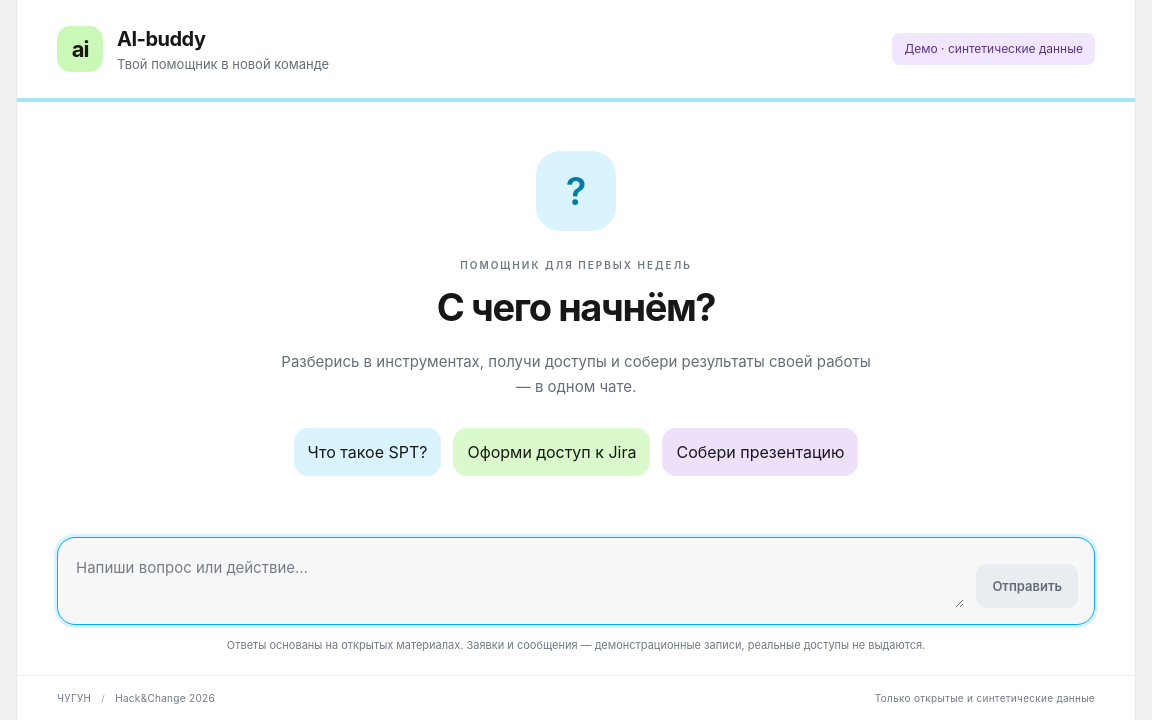
Scenario: Server-owned chat › leaves an ordinary response without a PDF download card
The width and height of the screenshot is (1152, 720).
In the text box: (519, 580) [74,554,964,608], type "Привет"
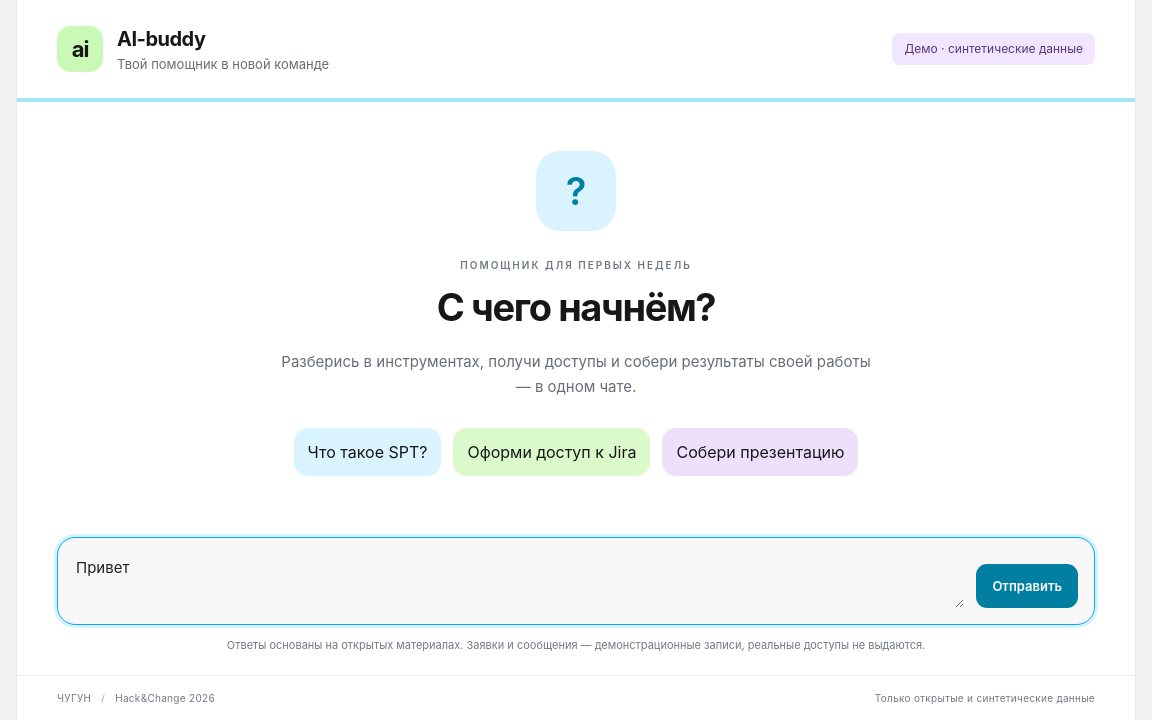
Submit the form, box [57,536,1095,624]
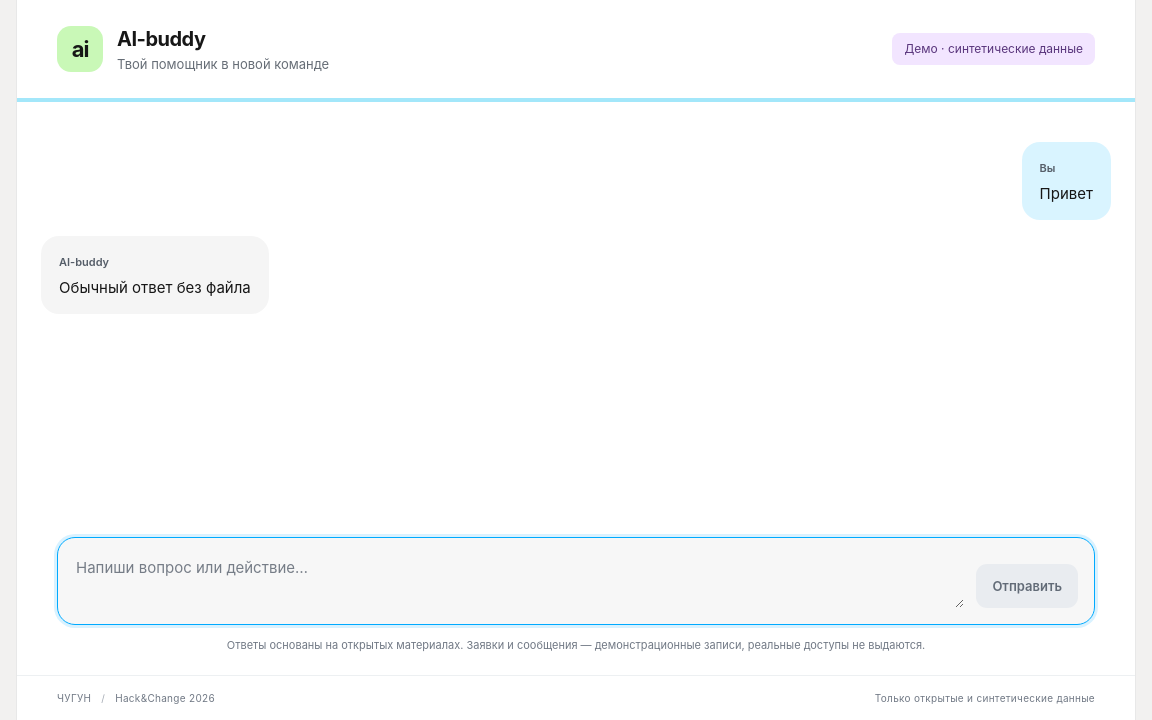
Result: the text "Обычный ответ без файла" is shown at [59,276,251,300]
